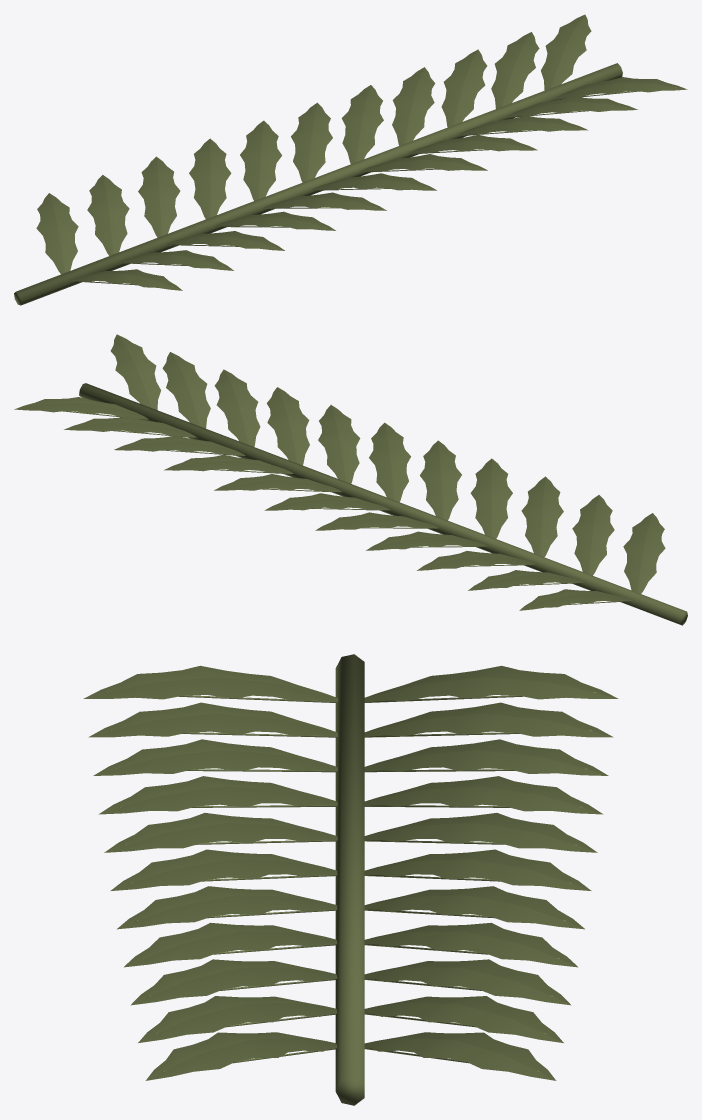
Rendered from Thyme.glb.
3 views of the same model, one above another, from view 1: azimuth 30°, elevation 25°; view 2: azimuth 150°, elevation 25°; view 3: azimuth 270°, elevation 25° (orthographic). The views are drawn at different scales.
Parts seen in each view (by area): view 1: Thyme; view 2: Thyme; view 3: Thyme.
Boxes of the visible parts, bbox=[...] form: Thyme: bbox=[14, 14, 687, 305]; Thyme: bbox=[14, 334, 687, 625]; Thyme: bbox=[83, 654, 618, 1105].
Size of what is drawn, in the model's own units: 0.103 by 0.0166 by 0.0385.
